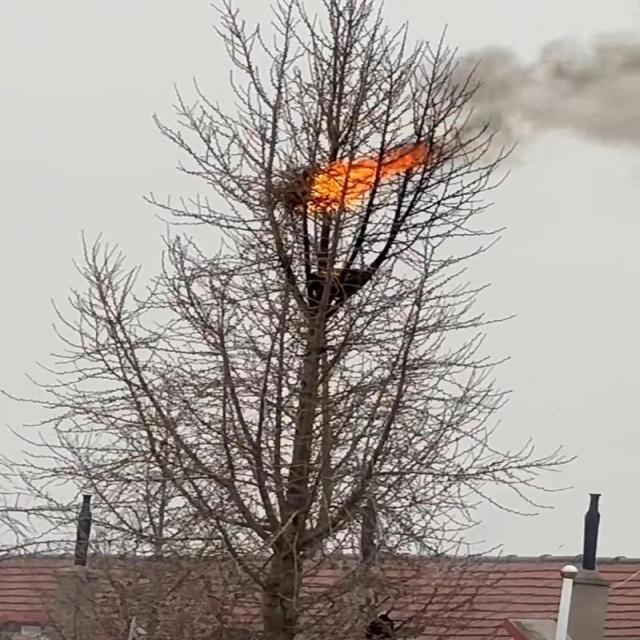Fire: (312, 142, 428, 205)
